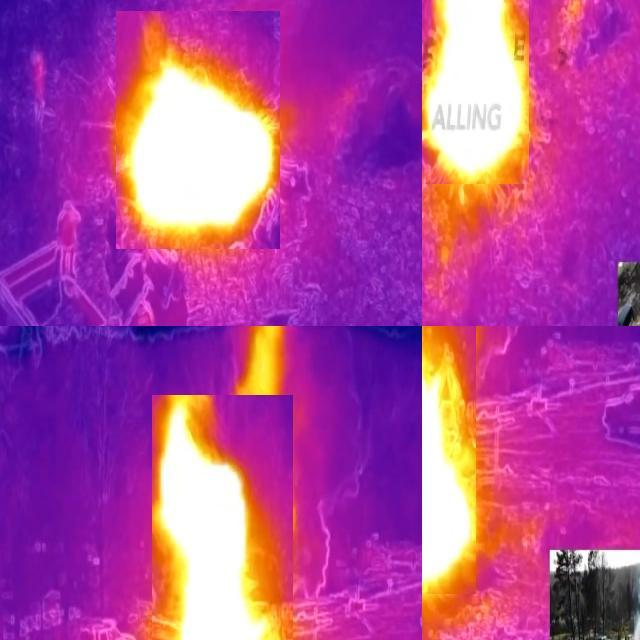fire: (117, 12, 281, 250), (153, 396, 294, 640), (423, 1, 530, 185), (423, 327, 477, 595)
